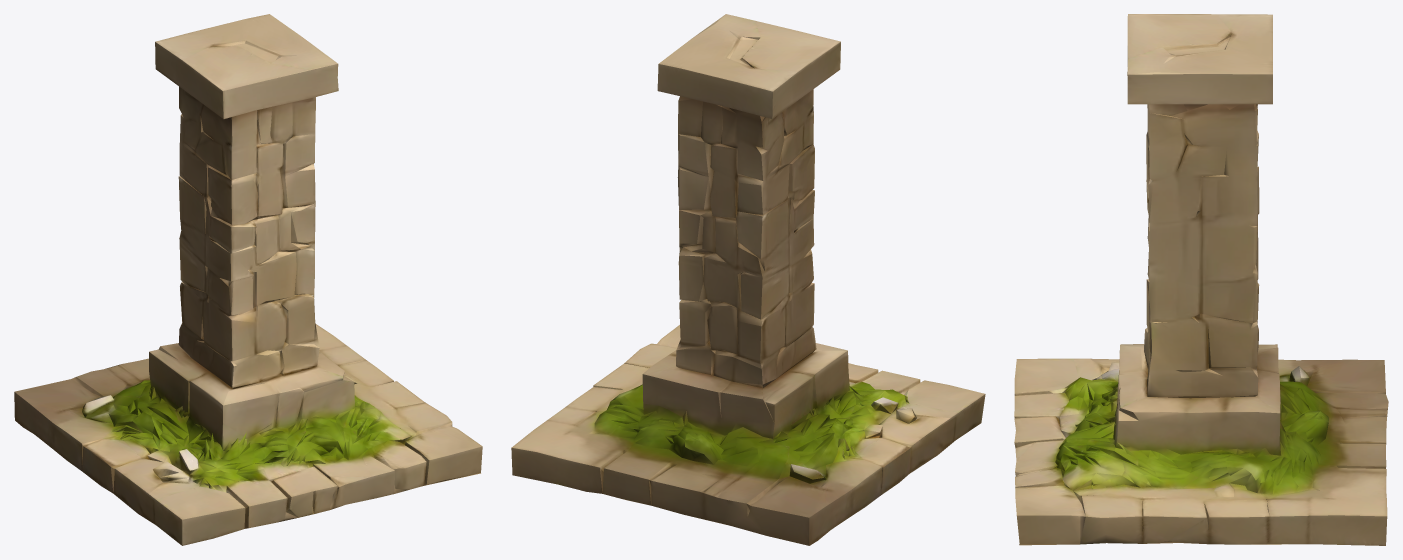
The model's file is m2ColumnPlatform.glb.
The picture shows the model from 3 angles, left to right: view 1: azimuth 30°, elevation 25°; view 2: azimuth 150°, elevation 25°; view 3: azimuth 270°, elevation 25°; orthographic projection. The views are drawn at different scales.
Visible parts, largest first — view 1: model; view 2: model; view 3: model.
Part boxes in pixels (bbox=[...]): model: bbox=[14, 14, 482, 545]; model: bbox=[511, 14, 985, 545]; model: bbox=[1014, 14, 1388, 545].
Size of the model in its own units: 1.52 by 1.88 by 1.51.
1 material, 1 textured.
